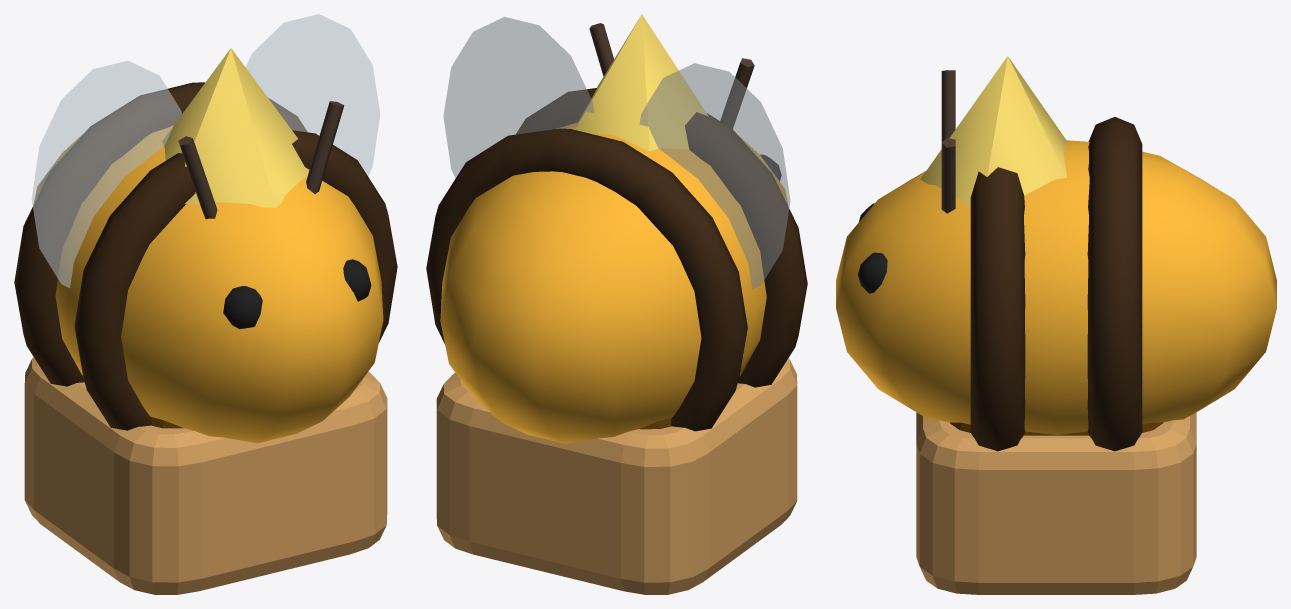
File: queen-scoop.glb
3 views of the same model, side by side, from view 1: azimuth 30°, elevation 25°; view 2: azimuth 150°, elevation 25°; view 3: azimuth 270°, elevation 25° (orthographic). The views are drawn at different scales.
Bounding box in the file's own units: 0.5025 × 0.6875 × 0.5655.
